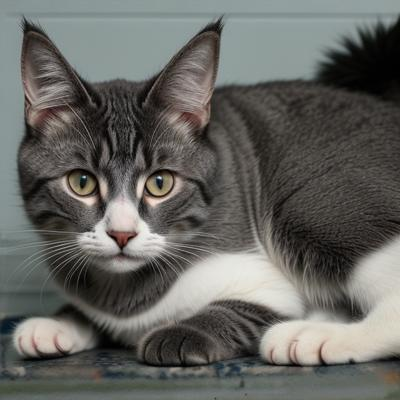cat: (7, 13, 400, 367)
